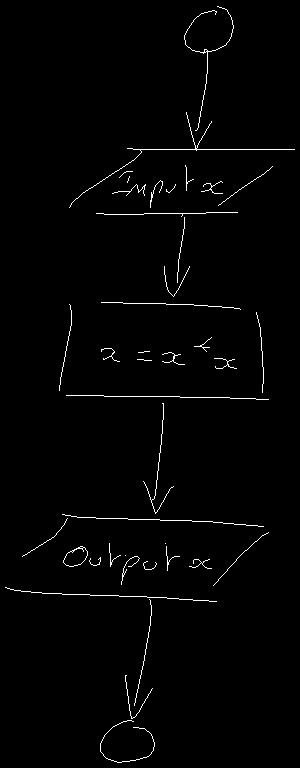arrow: (143, 403, 173, 513), (125, 599, 152, 718), (186, 49, 211, 150), (164, 213, 189, 296)
connection: (100, 720, 154, 762), (184, 6, 233, 52)
data: (5, 514, 268, 601), (69, 148, 294, 214)
process: (59, 302, 268, 399)
text: (63, 543, 211, 584), (112, 165, 222, 207), (101, 337, 236, 368)
